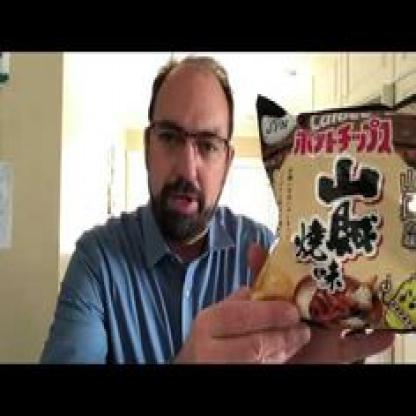potatochip: (252, 84, 414, 340)
